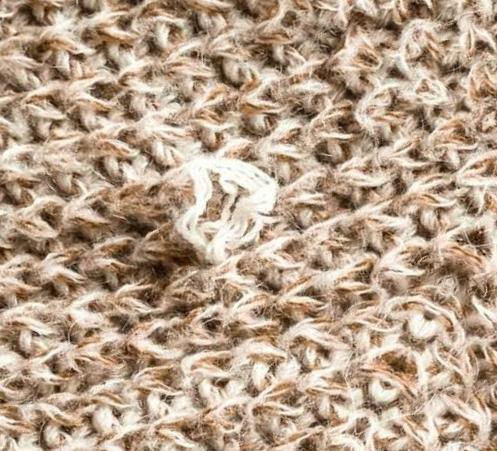snag: (173, 145, 284, 269)
